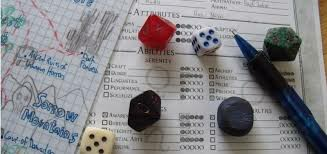pen: (232, 32, 327, 151)
